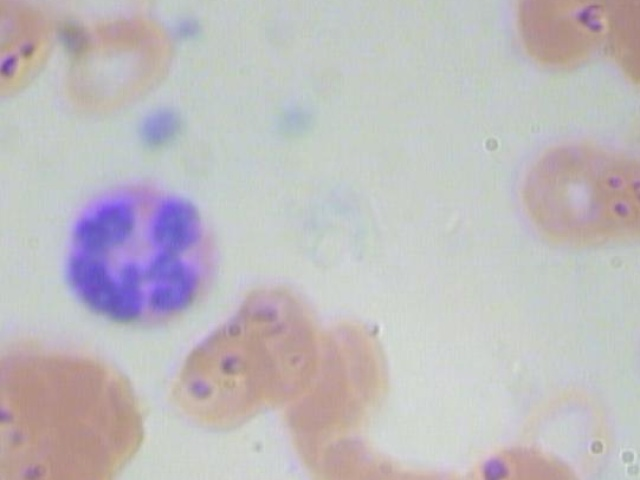Platelets: (137, 103, 190, 150)
RBC: (49, 7, 184, 122), (158, 316, 293, 431), (514, 120, 630, 251), (292, 310, 397, 416), (518, 376, 623, 480), (507, 0, 631, 74), (0, 423, 121, 480), (615, 0, 640, 89)
WBC: (54, 172, 224, 333)
